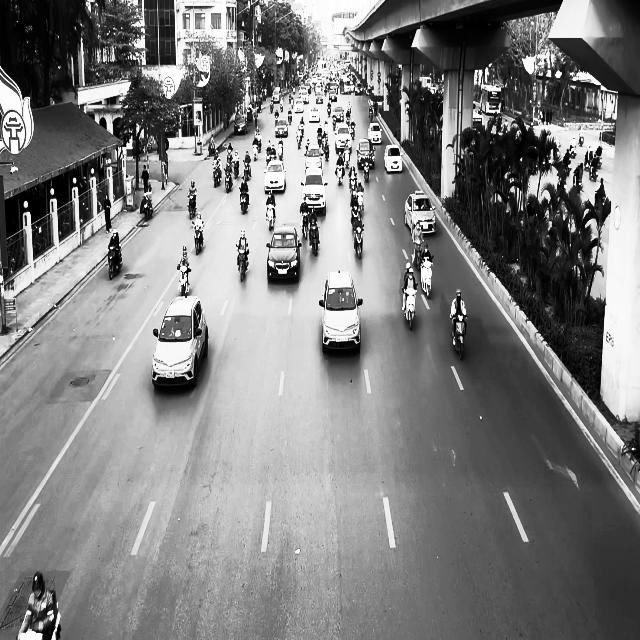bus: (480, 84, 503, 115)
car: (152, 294, 208, 390), (318, 270, 362, 352), (266, 225, 302, 282), (404, 190, 436, 235), (300, 167, 328, 215), (263, 160, 287, 193), (356, 139, 376, 168), (383, 144, 402, 173), (368, 122, 382, 144), (234, 114, 247, 134)
motorbike: (450, 314, 467, 360), (402, 286, 418, 330), (419, 254, 434, 299), (236, 243, 249, 282), (177, 263, 191, 297), (108, 245, 122, 279), (352, 223, 364, 258), (308, 221, 320, 255), (192, 223, 204, 255), (300, 210, 309, 239), (239, 188, 249, 214), (266, 204, 276, 230), (187, 193, 197, 219), (143, 195, 153, 220), (212, 162, 221, 188)
